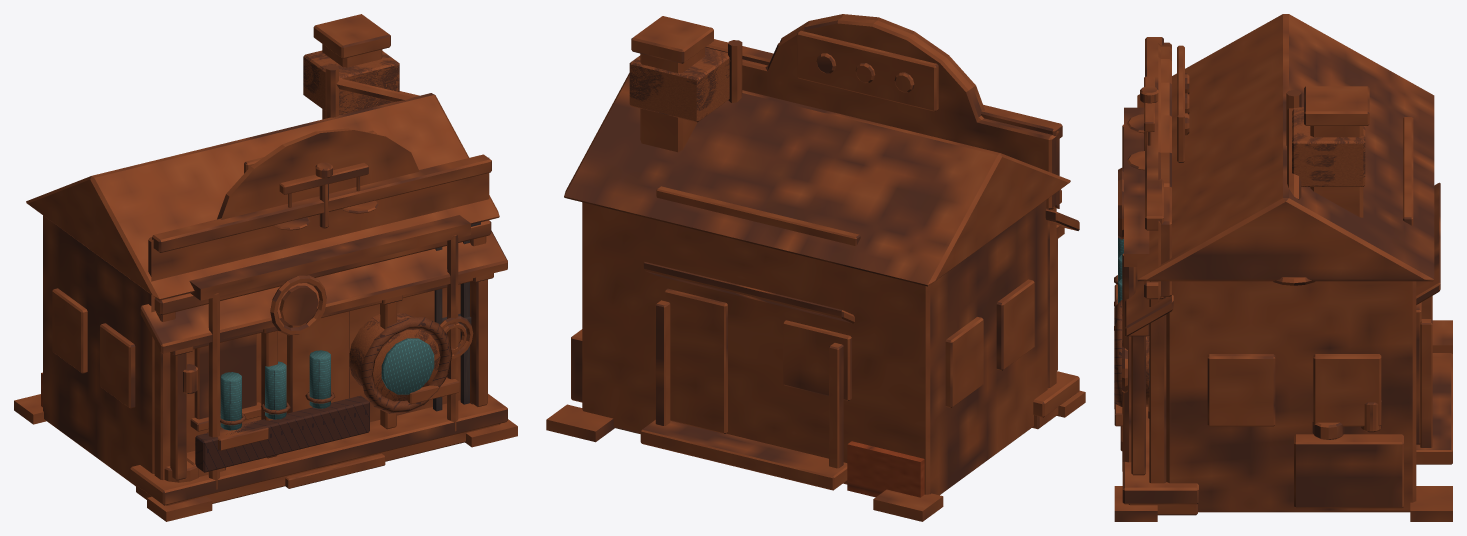
Rendered from assay-office.e10.glb.
3 renders of one model, left to right at view 1: azimuth 30°, elevation 25°; view 2: azimuth 150°, elevation 25°; view 3: azimuth 270°, elevation 25°, orthographic. The views are drawn at different scales.
Visible parts, largest first — view 1: AssayOfficeE10PressHall; view 2: AssayOfficeE10PressHall; view 3: AssayOfficeE10PressHall.
Boxes of the visible parts, left/top/right/bottom form: AssayOfficeE10PressHall: left=14, top=14, right=517, bottom=521; AssayOfficeE10PressHall: left=546, top=14, right=1085, bottom=521; AssayOfficeE10PressHall: left=1114, top=14, right=1452, bottom=521.
Bounding box in the file's own units: 4.42 × 4.2 × 3.33.
1 material, 1 textured.
